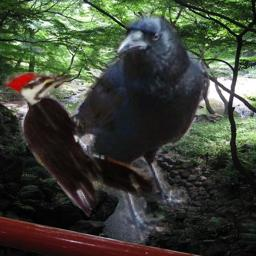Crow: (31, 3, 210, 247)
Woodpecker: (2, 72, 170, 217)
